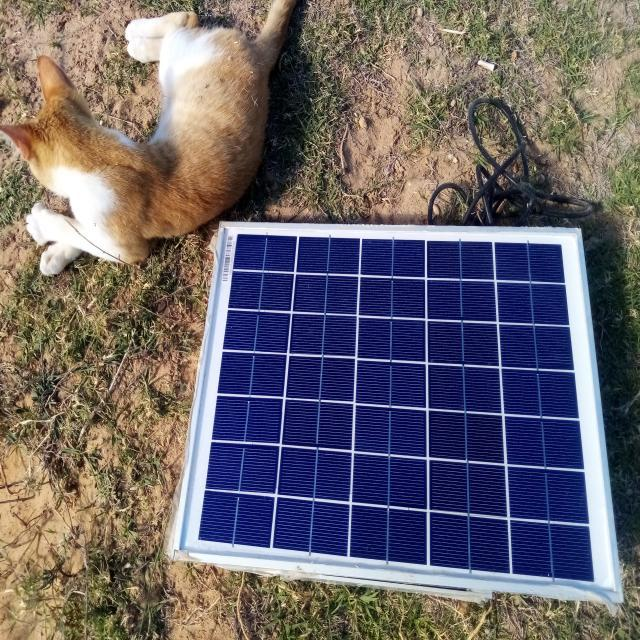no faulty: (172, 222, 624, 602)
